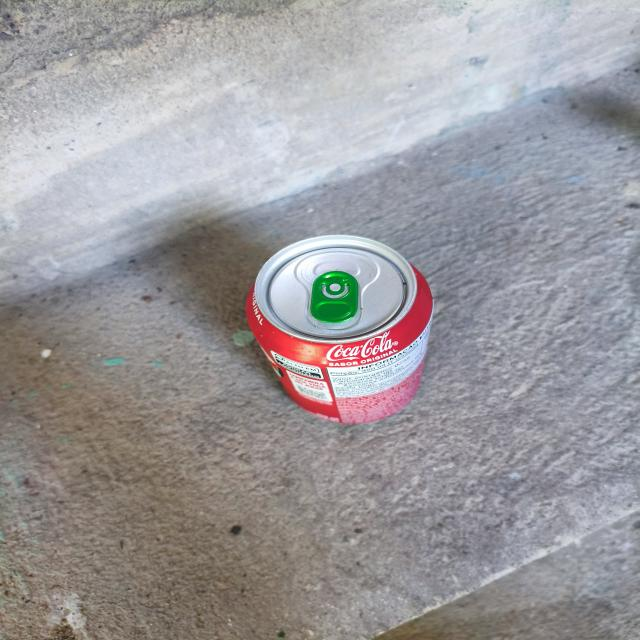Coca Cola: (246, 235, 432, 421)
